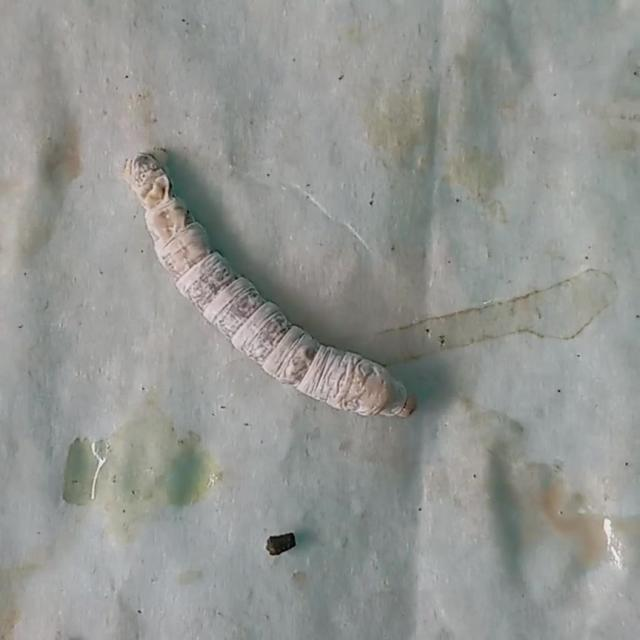Grasserie: (104, 121, 435, 442)
